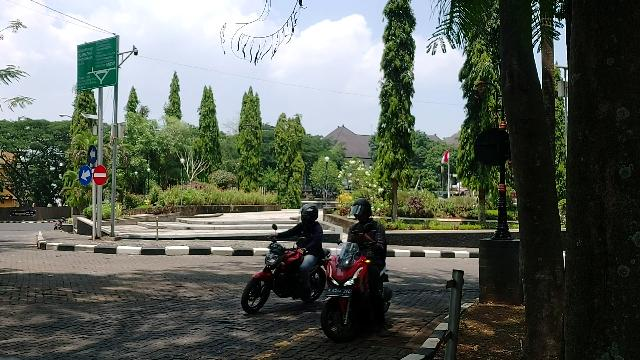helm: (350, 198, 374, 224), (300, 203, 321, 226)
motor: (241, 223, 333, 315), (319, 238, 395, 344)
